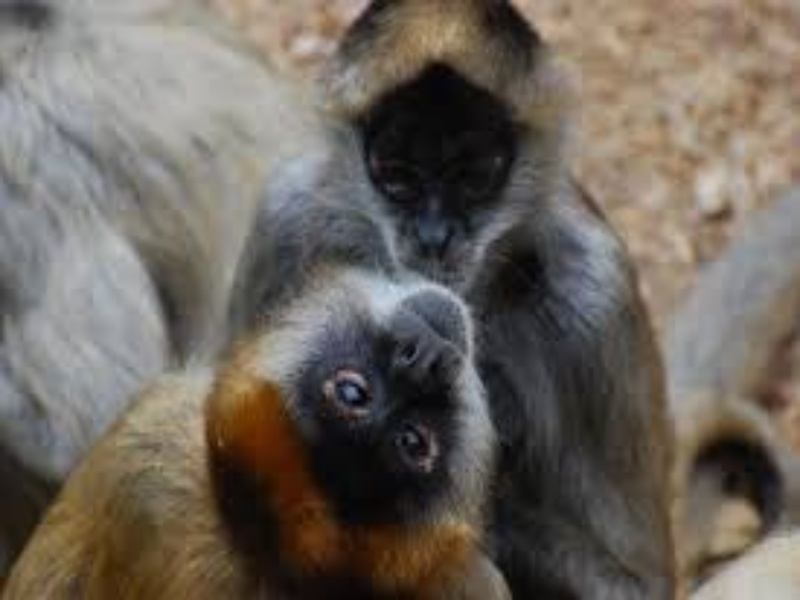monkey: (60, 2, 680, 592)
